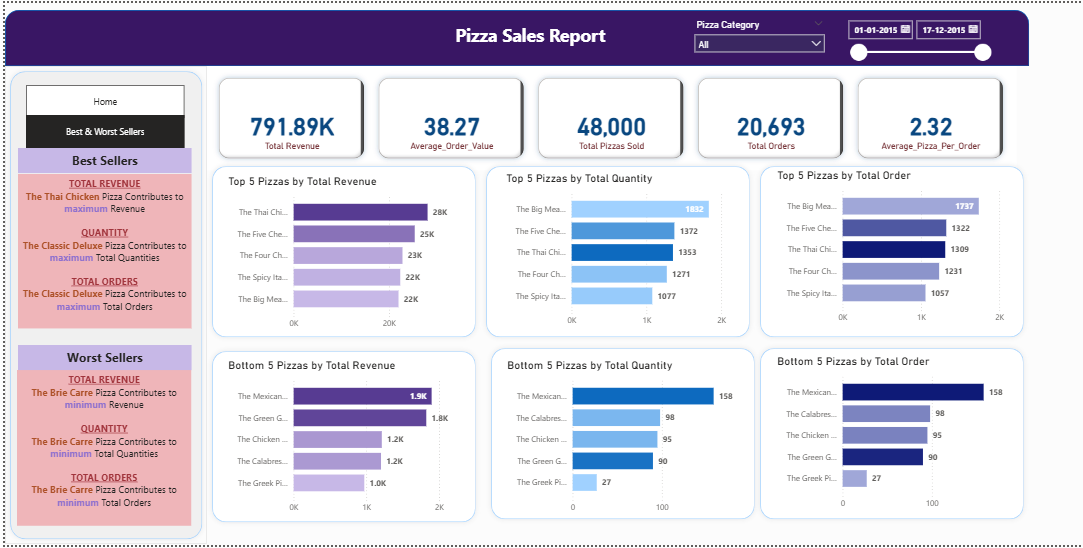

The page's visual inventory and layout, read from the dashboard file:
{"tool":"powerbi","page":{"name":"Best & Worst Sellers","canvas":[1700,820],"ordinal":1},"visuals":[{"type":"shape","box":[0,95,306.7,725],"z":0},{"type":"cardVisual","fields":{"Data":["pizza_sales_db pizza_sales.Total Revenue","pizza_sales_db pizza_sales.Average_Order_Value","pizza_sales_db pizza_sales.Total Pizzas Sold","pizza_sales_db pizza_sales.Total Orders","pizza_sales_db pizza_sales.Average_Pizza_Per_Order"]},"box":[306.7,95,1226.7,158.3],"z":1000},{"type":"shape","box":[0,10,1551.7,85],"z":2000},{"type":"textbox","box":[676.7,25,253.3,50],"z":3000},{"type":"shape","box":[721.7,240,415,275],"z":4000},{"type":"textbox","box":[20,220,263.3,38.3],"z":5000},{"type":"textbox","box":[20,258.6,262.9,234.3],"z":6000},{"type":"textbox","box":[18.6,555.7,264.3,235.7],"z":7000},{"type":"textbox","box":[20,518.3,263.3,38.3],"z":8000},{"type":"slicer","fields":{"Values":["pizza_sales_db pizza_sales.pizza_category"]},"box":[1035,20,216.7,65],"z":9000},{"type":"slicer","fields":{"Values":["pizza_sales_db pizza_sales.order_date"]},"box":[1265,16.7,245,78.3],"z":10000},{"type":"shape","box":[306.7,240,415,275],"z":11000},{"type":"shape","box":[1136.7,240,415,275],"z":12000},{"type":"shape","box":[306.7,520,415,275],"z":13000},{"type":"shape","box":[728.3,515,415,275],"z":14000},{"type":"shape","box":[1136.7,515,415,275],"z":15000},{"type":"clusteredBarChart","title":"Top 5 Pizzas by Total Revenue","fields":{"Category":["pizza_sales_db pizza_sales.pizza_name"],"Y":["pizza_sales_db pizza_sales.Total Revenue"]},"box":[333.3,258.3,363.3,245],"z":16000},{"type":"clusteredBarChart","title":"Bottom 5 Pizzas by Total Revenue","fields":{"Category":["pizza_sales_db pizza_sales.pizza_name"],"Y":["pizza_sales_db pizza_sales.Total Revenue"]},"box":[333.3,538.3,363.3,245],"z":17000},{"type":"clusteredBarChart","title":"Top 5 Pizzas by Total Quantity","fields":{"Category":["pizza_sales_db pizza_sales.pizza_name"],"Y":["Sum(pizza_sales_db pizza_sales.quantity)"]},"box":[755,255,363.3,245],"z":18000},{"type":"clusteredBarChart","title":"Bottom 5 Pizzas by Total Quantity","fields":{"Category":["pizza_sales_db pizza_sales.pizza_name"],"Y":["Sum(pizza_sales_db pizza_sales.quantity)"]},"box":[755.7,537.1,364.3,244.3],"z":19000},{"type":"clusteredBarChart","title":"Top 5 Pizzas by Total Order","fields":{"Category":["pizza_sales_db pizza_sales.pizza_name"],"Y":["pizza_sales_db pizza_sales.Total Orders"]},"box":[1165,249.3,363.3,245],"z":20000},{"type":"clusteredBarChart","title":"Bottom 5 Pizzas by Total Order","fields":{"Category":["pizza_sales_db pizza_sales.pizza_name"],"Y":["Sum(pizza_sales_db pizza_sales.quantity)"]},"box":[1165.7,531.4,364.3,244.3],"z":21000},{"type":"pageNavigator","box":[31.4,124.3,240,50],"z":22000},{"type":"pageNavigator","box":[31.4,170,240,50],"z":23000}]}

Visuals, with their boxes on the page's 1700x820 design canvas (x1, y1, x2, y2). These are canvas units, not pixel positions in the 1083x548 screenshot, which may show the page scaled, cropped or inside an application window:
shape: [left=0, top=95, right=307, bottom=820]
cardVisual - pizza_sales_db pizza_sales.Total Revenue x pizza_sales_db pizza_sales.Average_Order_Value: [left=307, top=95, right=1533, bottom=253]
shape: [left=0, top=10, right=1552, bottom=95]
textbox: [left=677, top=25, right=930, bottom=75]
shape: [left=722, top=240, right=1137, bottom=515]
textbox: [left=20, top=220, right=283, bottom=258]
textbox: [left=20, top=259, right=283, bottom=493]
textbox: [left=19, top=556, right=283, bottom=791]
textbox: [left=20, top=518, right=283, bottom=557]
slicer - pizza_sales_db pizza_sales.pizza_category: [left=1035, top=20, right=1252, bottom=85]
slicer - pizza_sales_db pizza_sales.order_date: [left=1265, top=17, right=1510, bottom=95]
shape: [left=307, top=240, right=722, bottom=515]
shape: [left=1137, top=240, right=1552, bottom=515]
shape: [left=307, top=520, right=722, bottom=795]
shape: [left=728, top=515, right=1143, bottom=790]
shape: [left=1137, top=515, right=1552, bottom=790]
"Top 5 Pizzas by Total Revenue" clusteredBarChart: [left=333, top=258, right=697, bottom=503]
"Bottom 5 Pizzas by Total Revenue" clusteredBarChart: [left=333, top=538, right=697, bottom=783]
"Top 5 Pizzas by Total Quantity" clusteredBarChart: [left=755, top=255, right=1118, bottom=500]
"Bottom 5 Pizzas by Total Quantity" clusteredBarChart: [left=756, top=537, right=1120, bottom=781]
"Top 5 Pizzas by Total Order" clusteredBarChart: [left=1165, top=249, right=1528, bottom=494]
"Bottom 5 Pizzas by Total Order" clusteredBarChart: [left=1166, top=531, right=1530, bottom=776]
pageNavigator: [left=31, top=124, right=271, bottom=174]
pageNavigator: [left=31, top=170, right=271, bottom=220]
